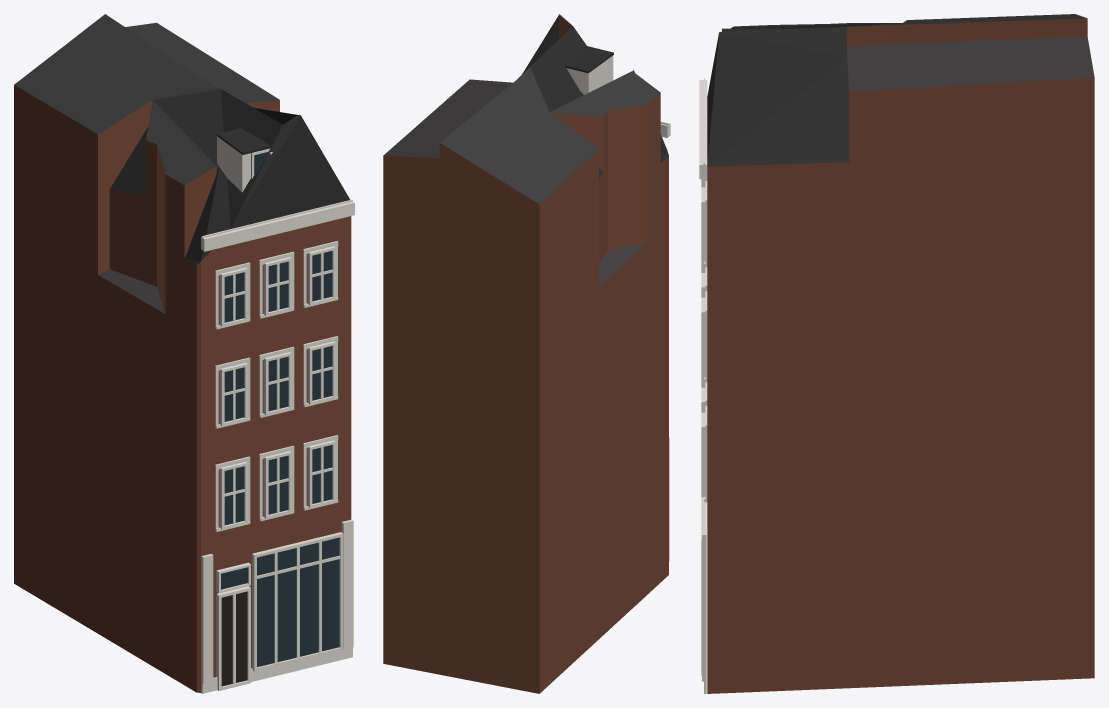
3 renders of one model, left to right at view 1: azimuth 30°, elevation 25°; view 2: azimuth 150°, elevation 25°; view 3: azimuth 270°, elevation 25°, orthographic. The views are drawn at different scales.
Visible parts, largest first — view 1: spec-0363100012177984; view 2: spec-0363100012177984; view 3: spec-0363100012177984.
Part boxes in pixels (x1,y1,x2,y2): spec-0363100012177984: (14,14,354,693); spec-0363100012177984: (383,14,670,693); spec-0363100012177984: (699,14,1094,693).
Size of the model in its own units: 5.28 by 15.48 by 8.72.
